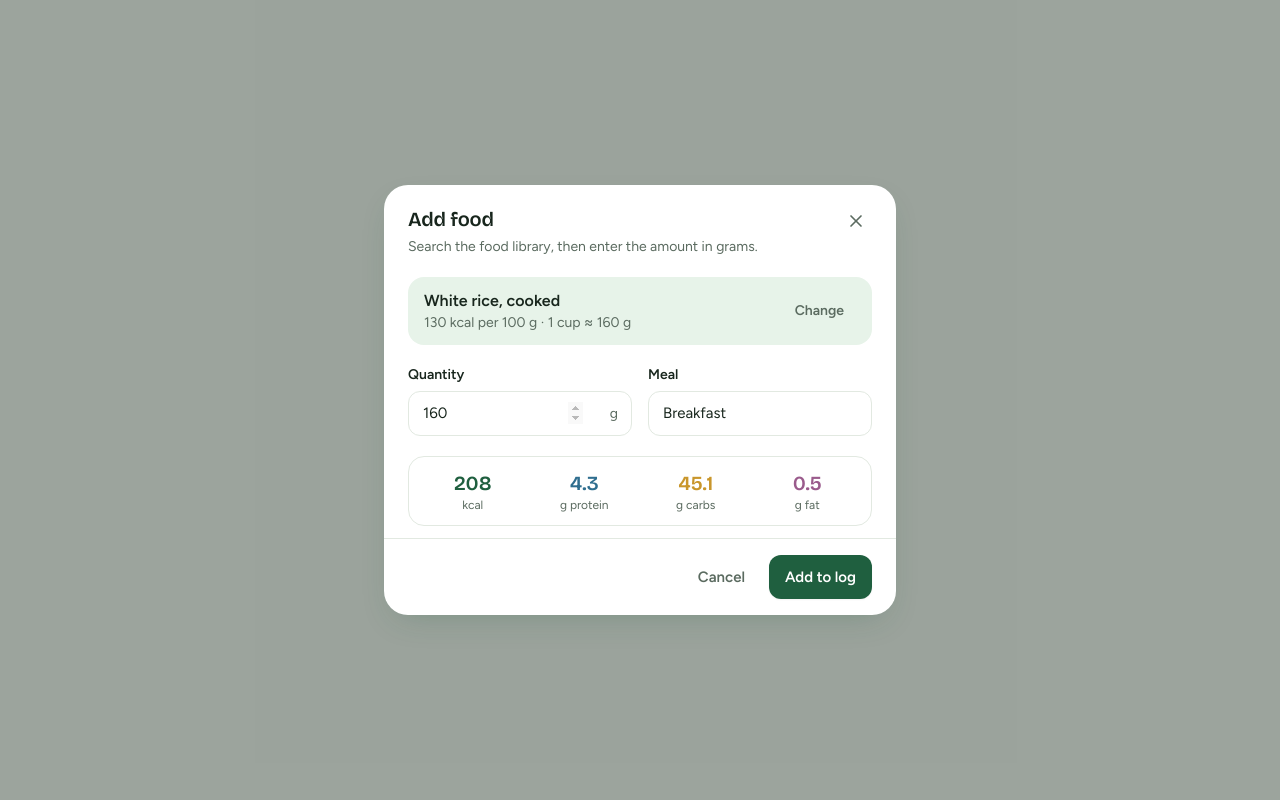
Test case: Food search and meal logging › requires a valid quantity
The image size is (1280, 800).
Clear the number field labelled "Quantity" at (520, 414), box [408,391,632,436]
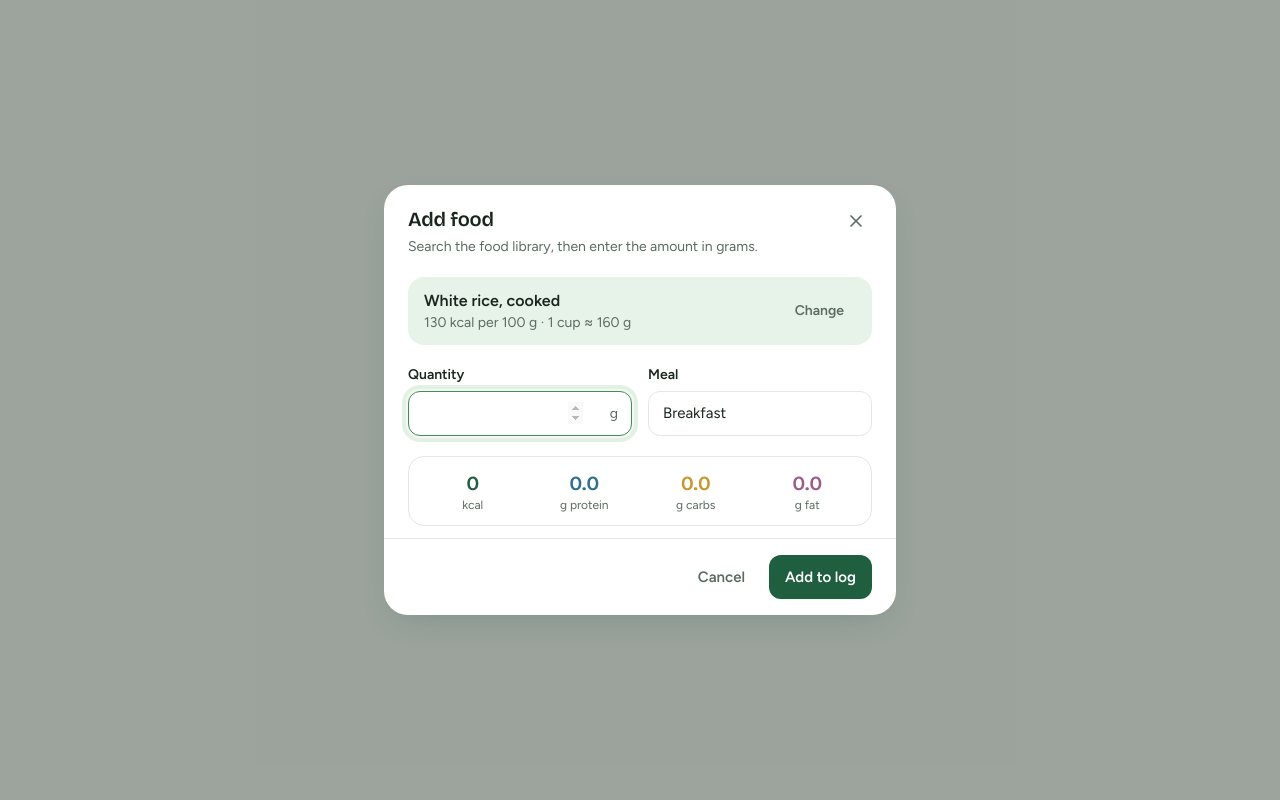
Click the button "Add to log" at (820, 577), box [769,555,872,599]
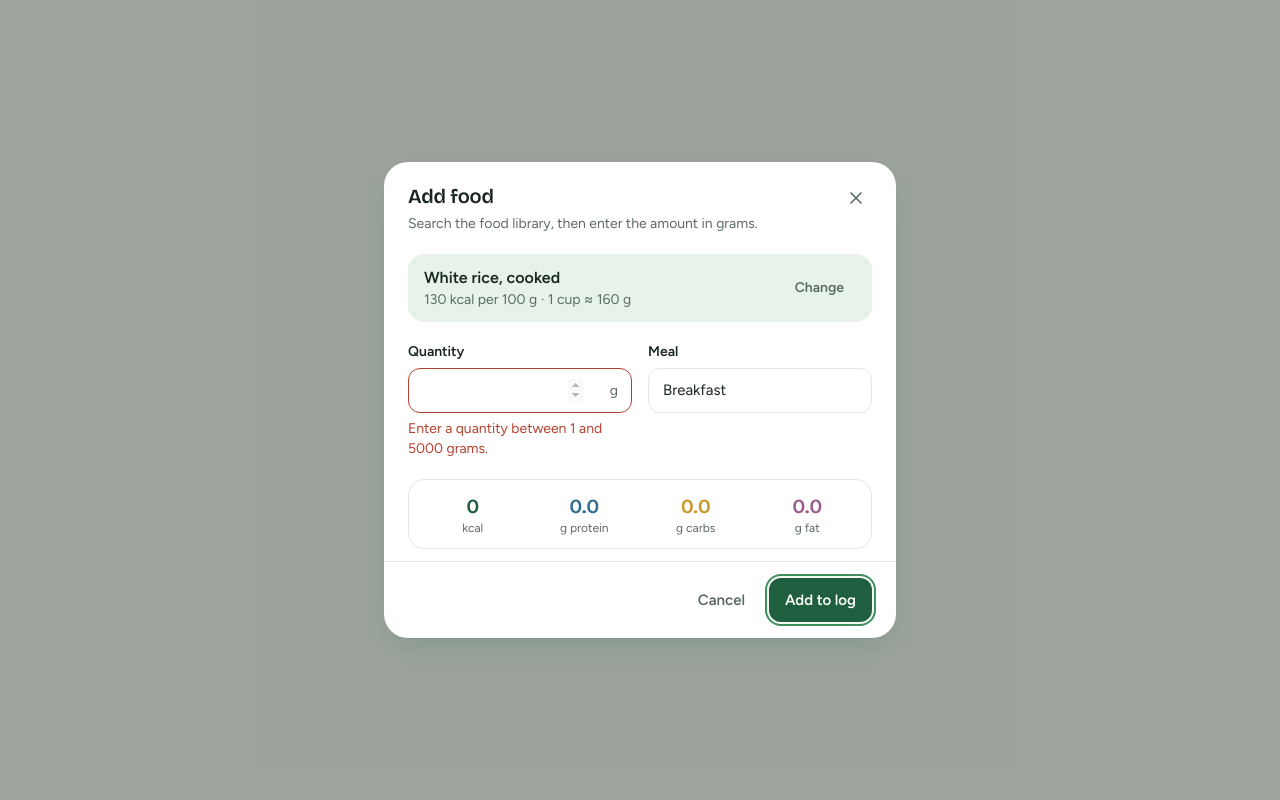
Now the text "Enter a quantity between 1 and 5000 grams." is shown, box [408,419,632,459]
